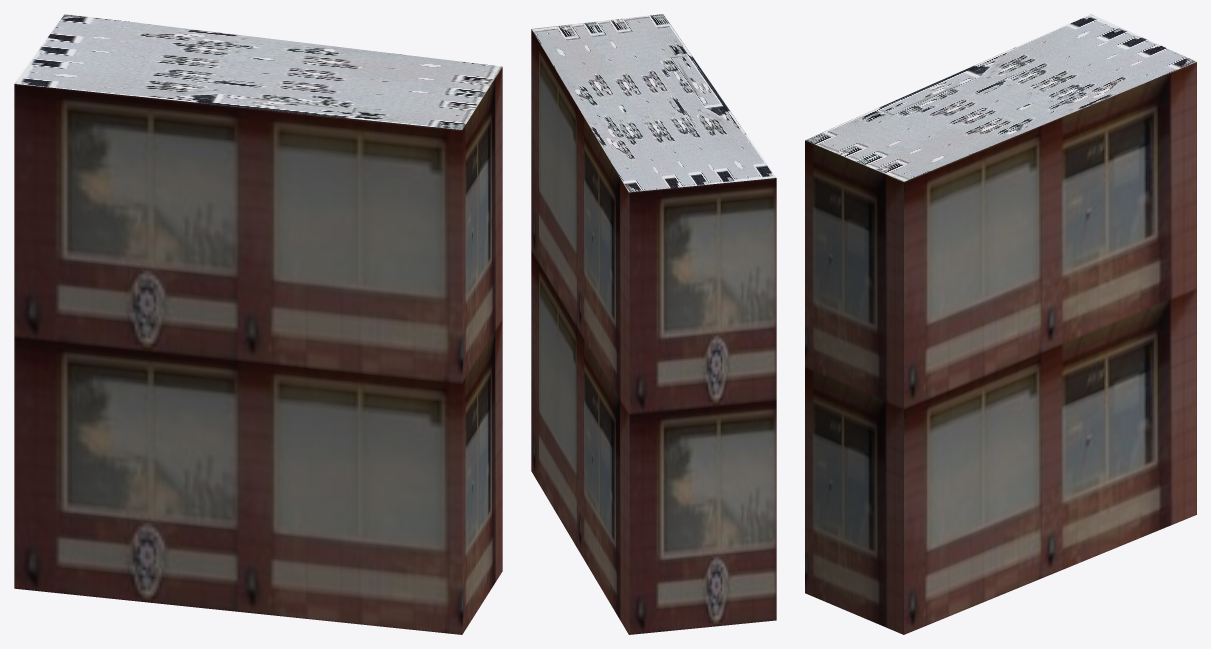
Rendered from ResTex__4180.fbx.
The picture shows the model from 3 angles, left to right: view 1: azimuth 30°, elevation 25°; view 2: azimuth 150°, elevation 25°; view 3: azimuth 270°, elevation 25°; orthographic projection. The views are drawn at different scales.
Visible parts, largest first — view 1: CityEngineMaterial_13_m, CityEngineMaterial_2_m; view 2: CityEngineMaterial_13_m, CityEngineMaterial_2_m; view 3: CityEngineMaterial_13_m, CityEngineMaterial_2_m.
Part boxes in pixels (x1=…): CityEngineMaterial_13_m: x1=14, y1=67, x2=502, y2=634; CityEngineMaterial_2_m: x1=14, y1=14, x2=501, y2=129; CityEngineMaterial_13_m: x1=531, y1=29, x2=776, y2=634; CityEngineMaterial_2_m: x1=531, y1=14, x2=776, y2=192; CityEngineMaterial_13_m: x1=805, y1=62, x2=1196, y2=634; CityEngineMaterial_2_m: x1=805, y1=14, x2=1196, y2=181.
Bounding box in the file's own units: 4.77 × 6 × 4.71.
2 materials, 2 textured.
